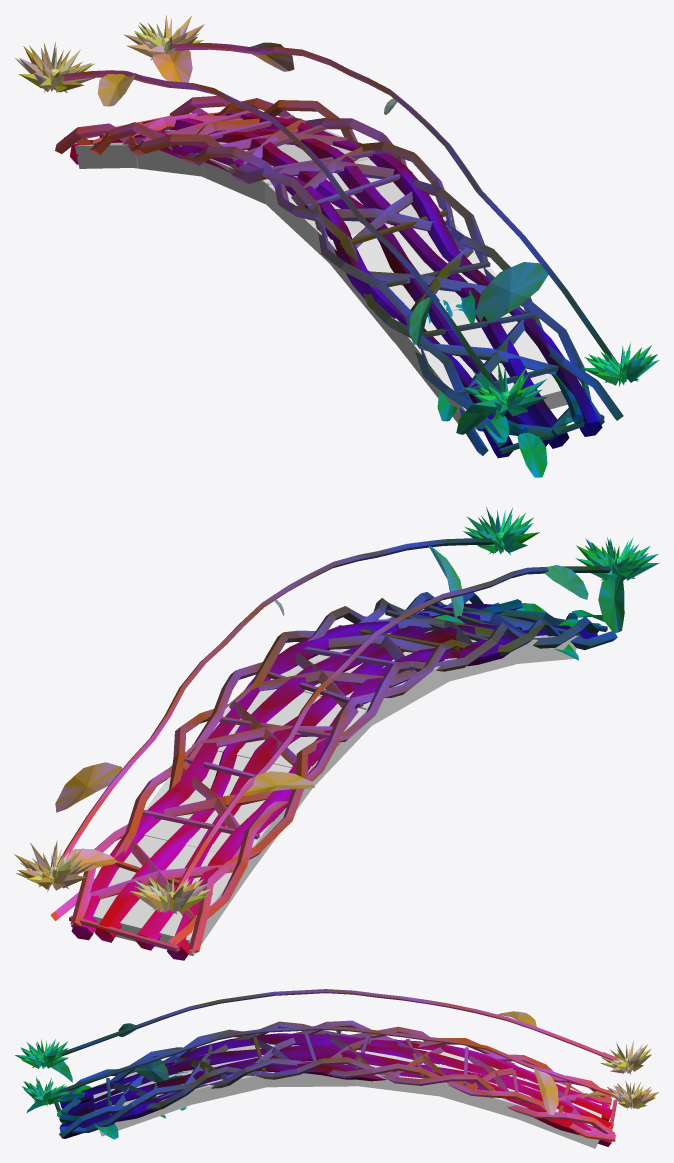
Rendered from Plant_Bridge_03.fbx.
3 views of the same model, one above another, from view 1: azimuth 30°, elevation 25°; view 2: azimuth 150°, elevation 25°; view 3: azimuth 270°, elevation 25° (orthographic). The views are drawn at different scales.
Parts seen in each view (by area): view 1: Plant_Bridge_03, COL_03_0, COL_03_1, COL_03_2, COL_03_3, COL_03_5, COL_03_4; view 2: Plant_Bridge_03, COL_03_5, COL_03_4, COL_03_3, COL_03_2, COL_03_0, COL_03_1; view 3: Plant_Bridge_03, COL_03_1, COL_03_4, COL_03_3, COL_03_2, COL_03_0, COL_03_5.
Boxes of the visible parts, left/top/right/bottom form: Plant_Bridge_03: left=15, top=15, right=659, bottom=477; COL_03_0: left=389, top=300, right=581, bottom=429; COL_03_1: left=325, top=223, right=496, bottom=341; COL_03_2: left=262, top=157, right=451, bottom=264; COL_03_3: left=197, top=129, right=369, bottom=203; COL_03_5: left=75, top=130, right=175, bottom=168; COL_03_4: left=130, top=142, right=227, bottom=176; Plant_Bridge_03: left=14, top=507, right=659, bottom=960; COL_03_5: left=93, top=829, right=253, bottom=956; COL_03_4: left=144, top=740, right=316, bottom=872; COL_03_3: left=192, top=678, right=371, bottom=790; COL_03_2: left=280, top=648, right=451, bottom=726; COL_03_0: left=510, top=635, right=578, bottom=664; COL_03_1: left=382, top=617, right=516, bottom=682; Plant_Bridge_03: left=15, top=989, right=658, bottom=1146; COL_03_1: left=178, top=1043, right=268, bottom=1106; COL_03_4: left=439, top=1052, right=530, bottom=1121; COL_03_3: left=355, top=1048, right=446, bottom=1096; COL_03_2: left=259, top=1044, right=361, bottom=1087; COL_03_0: left=92, top=1064, right=189, bottom=1136; COL_03_5: left=521, top=1078, right=601, bottom=1148.
Bounding box in the file's own units: 3.38 × 2.73 × 12.87.
